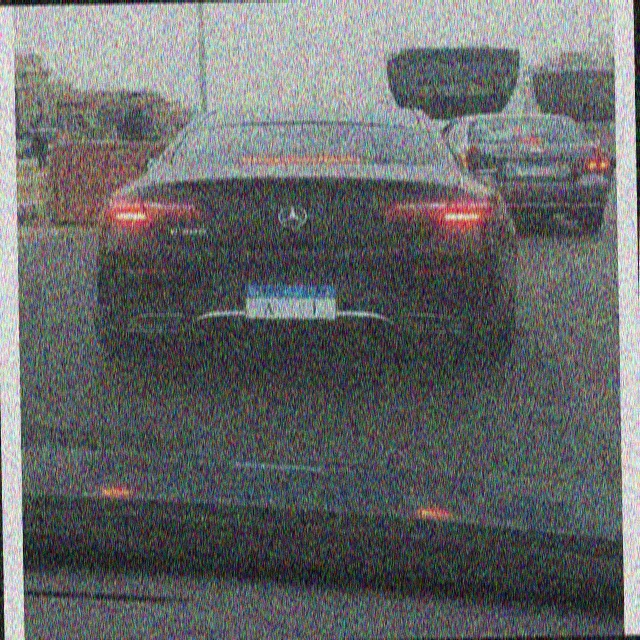License Plate: (242, 278, 342, 322), (515, 159, 556, 177)
